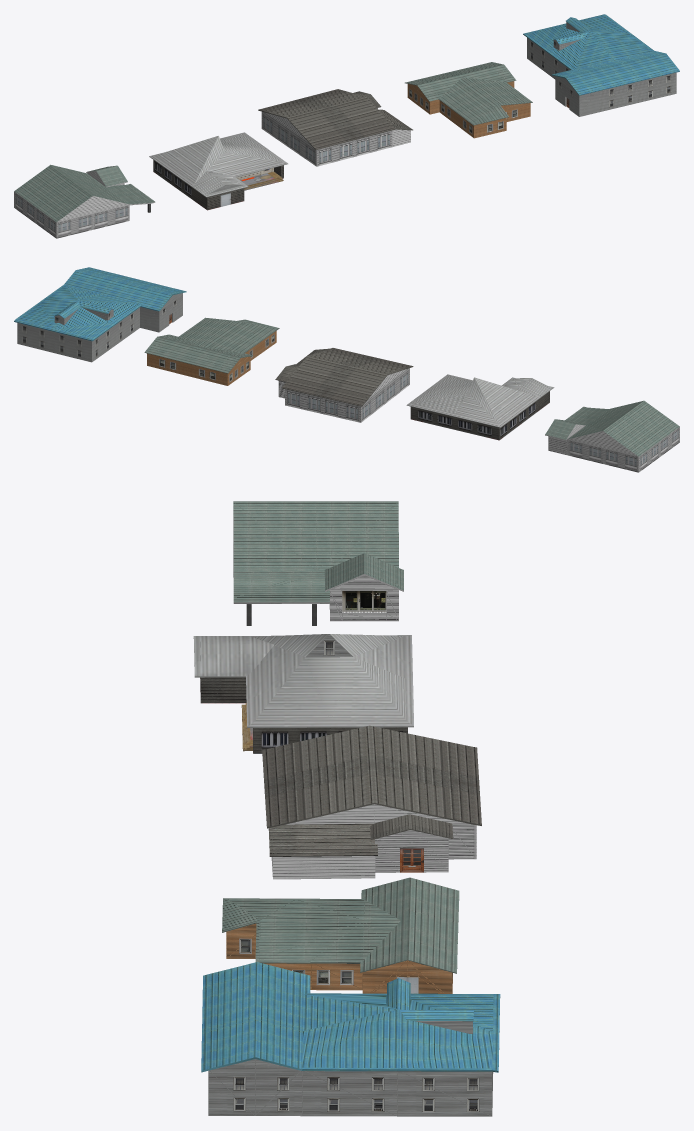
The model's file is green area houses.fbx.
3 views of the same model, one above another, from view 1: azimuth 30°, elevation 25°; view 2: azimuth 150°, elevation 25°; view 3: azimuth 270°, elevation 25° (orthographic). The views are drawn at different scales.
Parts seen in each view (by area): view 1: Res_F001.002, Res_B.003, Res_C002.002, Res_D.002, Res_E002.003; view 2: Res_F001.002, Res_B.003, Res_C002.002, Res_D.002, Res_E002.003; view 3: Res_F001.002, Res_B.003, Res_E002.003, Res_D.002, Res_C002.002.
Boxes of the visible parts, x1,y1,x2,y2 form: Res_F001.002: [523, 14, 679, 116]; Res_B.003: [258, 89, 412, 166]; Res_C002.002: [14, 164, 155, 238]; Res_D.002: [149, 132, 287, 210]; Res_E002.003: [405, 62, 532, 138]; Res_F001.002: [14, 267, 186, 362]; Res_B.003: [275, 348, 413, 422]; Res_C002.002: [545, 400, 679, 472]; Res_D.002: [406, 374, 554, 440]; Res_E002.003: [144, 317, 279, 385]; Res_F001.002: [201, 962, 500, 1116]; Res_B.003: [262, 725, 481, 879]; Res_E002.003: [222, 877, 459, 993]; Res_D.002: [193, 634, 413, 753]; Res_C002.002: [233, 501, 403, 625].
Size of the model in its own units: 5863 by 359 by 1297.
1 material, 1 textured.
